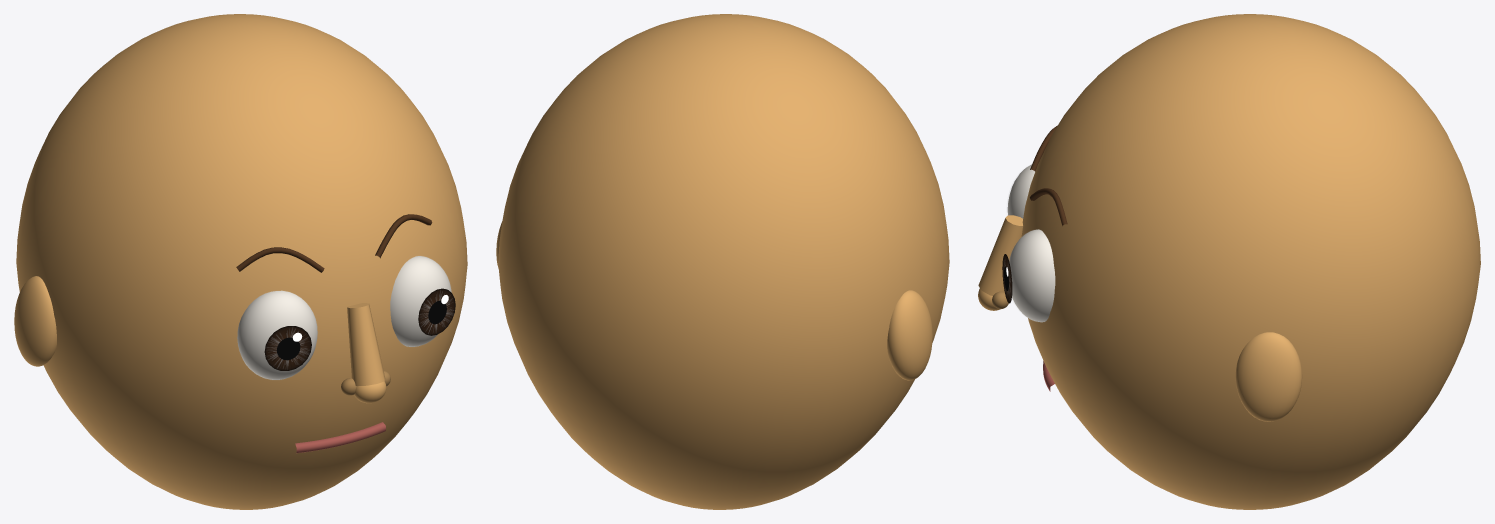
The model's file is 03-fins-arques.glb.
3 views of the same model, side by side, from view 1: azimuth 30°, elevation 25°; view 2: azimuth 150°, elevation 25°; view 3: azimuth 270°, elevation 25° (orthographic).
Bounding box in the file's own units: 0.3087 × 0.321 × 0.3166.
Materials: 9 (1 with a texture image).
